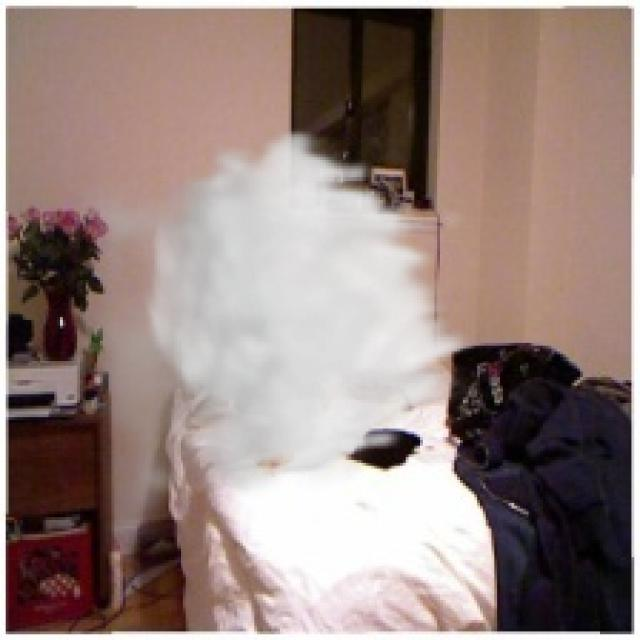smoke: (66, 126, 477, 551)
